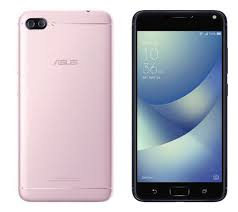asus: (15, 5, 114, 204), (130, 4, 229, 203)
